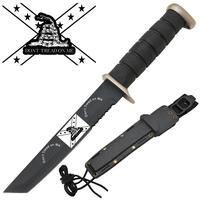knife: (1, 2, 182, 198)
